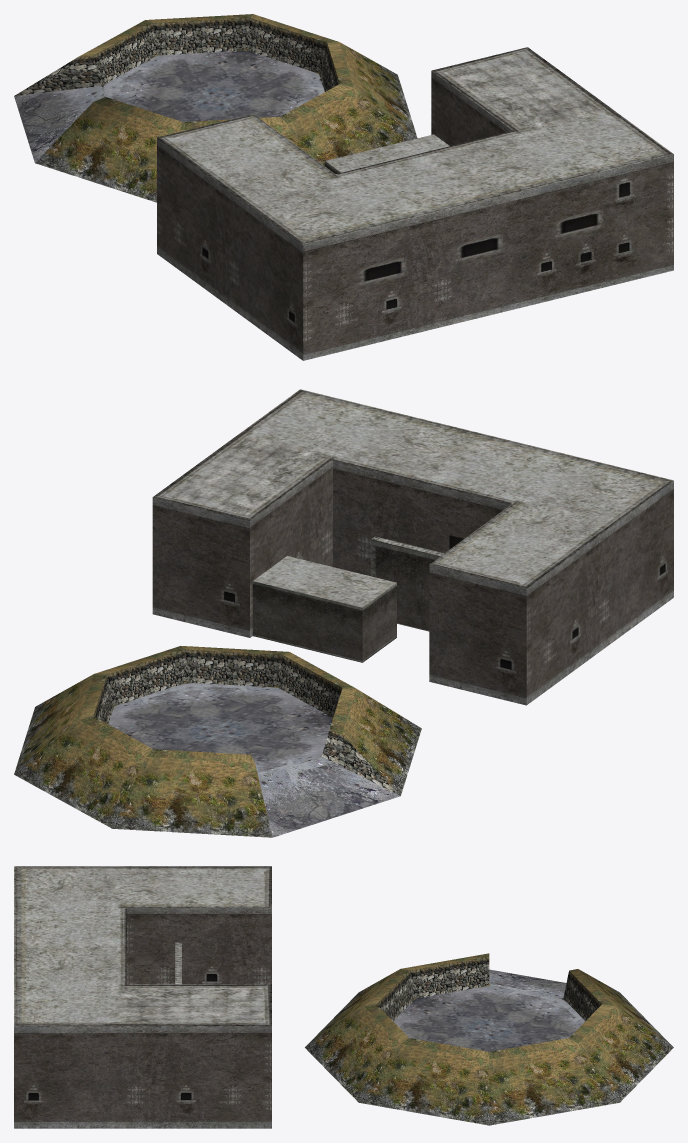
Rendered from MissilePillBox.FBX.
3 views of the same model, one above another, from view 1: azimuth 30°, elevation 25°; view 2: azimuth 150°, elevation 25°; view 3: azimuth 270°, elevation 25° (orthographic). The views are drawn at different scales.
Parts seen in each view (by area): view 1: PillBox3, Emplacement1, Homebox; view 2: PillBox3, Emplacement1, Homebox, Fence; view 3: PillBox3, Emplacement1.
Part boxes in pixels (box(x1,y1,x2,y2)): PillBox3: box(157, 47, 673, 360); Emplacement1: box(14, 14, 417, 202); Homebox: box(325, 134, 449, 173); PillBox3: box(152, 389, 673, 705); Emplacement1: box(14, 646, 421, 837); Homebox: box(252, 556, 396, 662); Fence: box(371, 536, 443, 631); PillBox3: box(14, 866, 271, 1128); Emplacement1: box(305, 953, 673, 1125).
Bounding box in the file's own units: 1154 × 2018 × 346.
